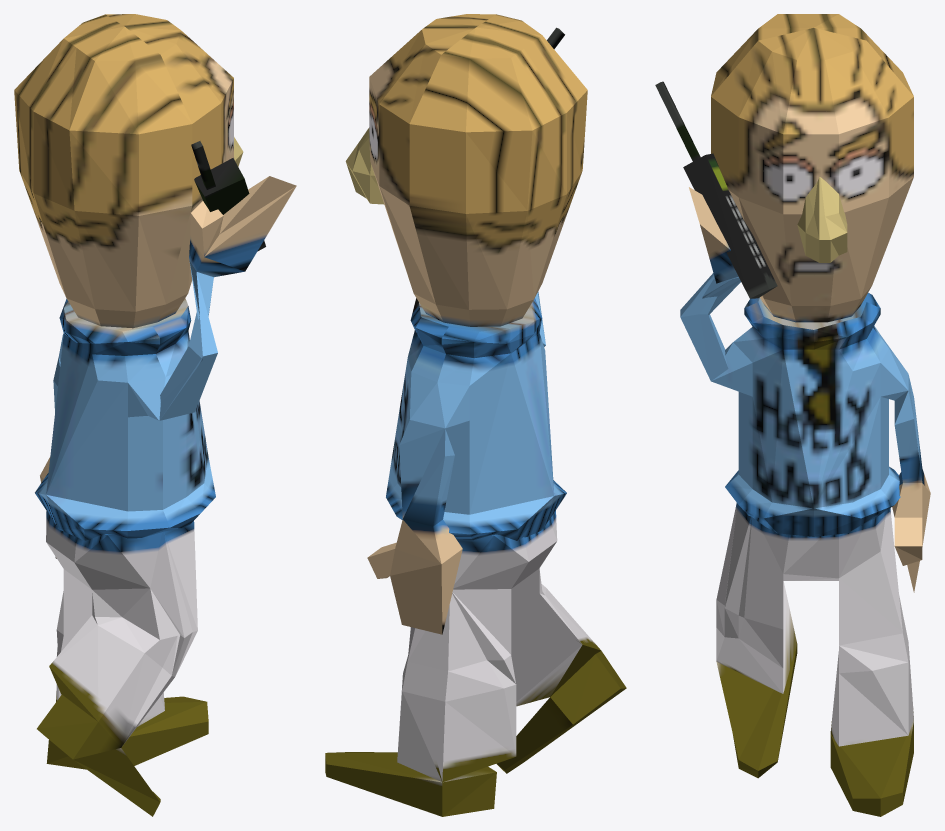
Rendered from PipCell.glb.
The picture shows the model from 3 angles, left to right: view 1: azimuth 30°, elevation 25°; view 2: azimuth 150°, elevation 25°; view 3: azimuth 270°, elevation 25°; orthographic projection.
Visible parts, largest first — view 1: PipCell; view 2: PipCell; view 3: PipCell.
Boxes of the visible parts, box(x1,y1,x2,y2) form: PipCell: box(14, 14, 296, 816); PipCell: box(325, 14, 626, 816); PipCell: box(655, 14, 930, 816).
Size of the model in its own units: 38.26 by 118 by 39.08.
1 material, 1 textured.
